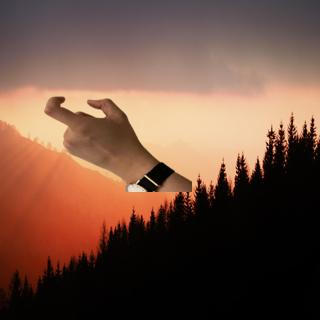HATE: (41, 90, 142, 174)
